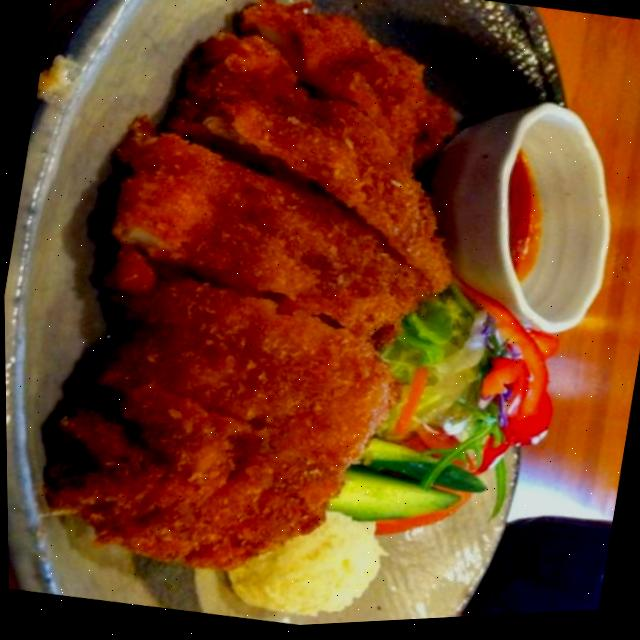鸡肉料理 含炸鸡: (18, 0, 502, 614)
